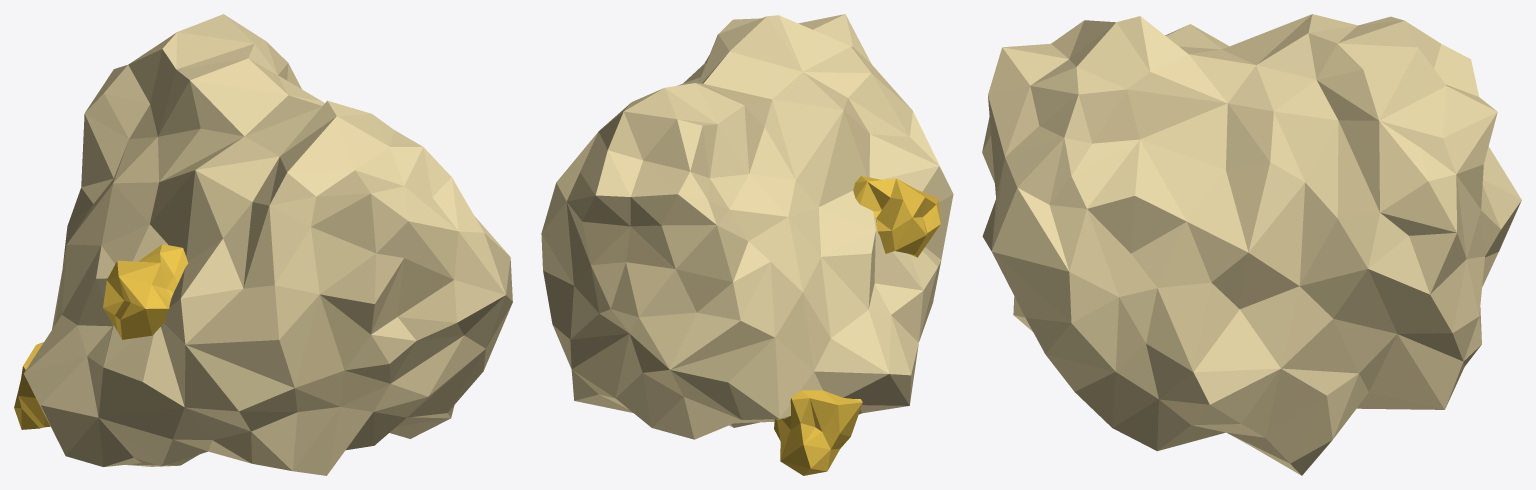
File: MetalOre (9).fbx
3 views of the same model, side by side, from view 1: azimuth 30°, elevation 25°; view 2: azimuth 150°, elevation 25°; view 3: azimuth 270°, elevation 25° (orthographic). The views are drawn at different scales.
Visible parts, largest first — view 1: Asteroid364; view 2: Asteroid364; view 3: Asteroid364.
Boxes of the visible parts, left/top/right/bottom form: Asteroid364: left=14, top=14, right=512, bottom=475; Asteroid364: left=541, top=14, right=953, bottom=475; Asteroid364: left=982, top=14, right=1521, bottom=475.
Bounding box in the file's own units: 483 × 466 × 554.
